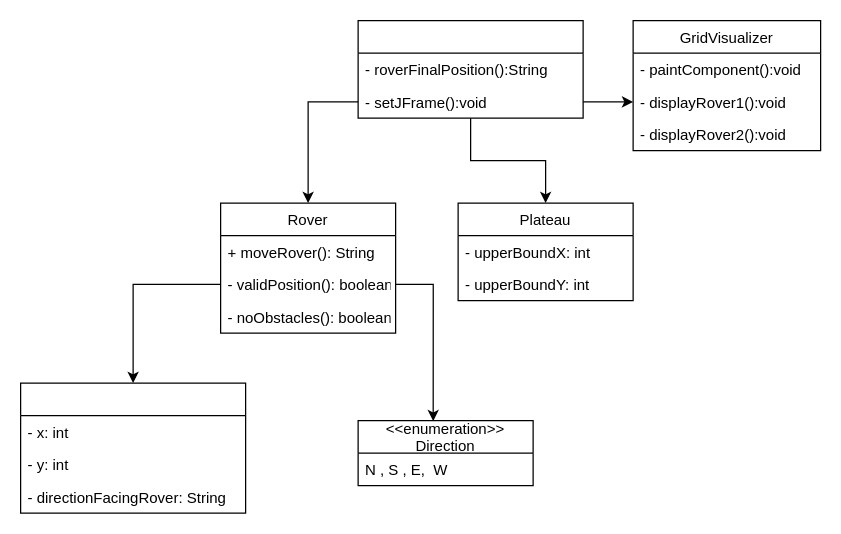
The diagram is 841 pixels wide and 534 high, and some of its shapes have lost their labels. The box of each missing label's shape, as (x1, y1, x2, y2) in pixels:
Main: (357, 19, 583, 118)
Position: (19, 382, 246, 513)
